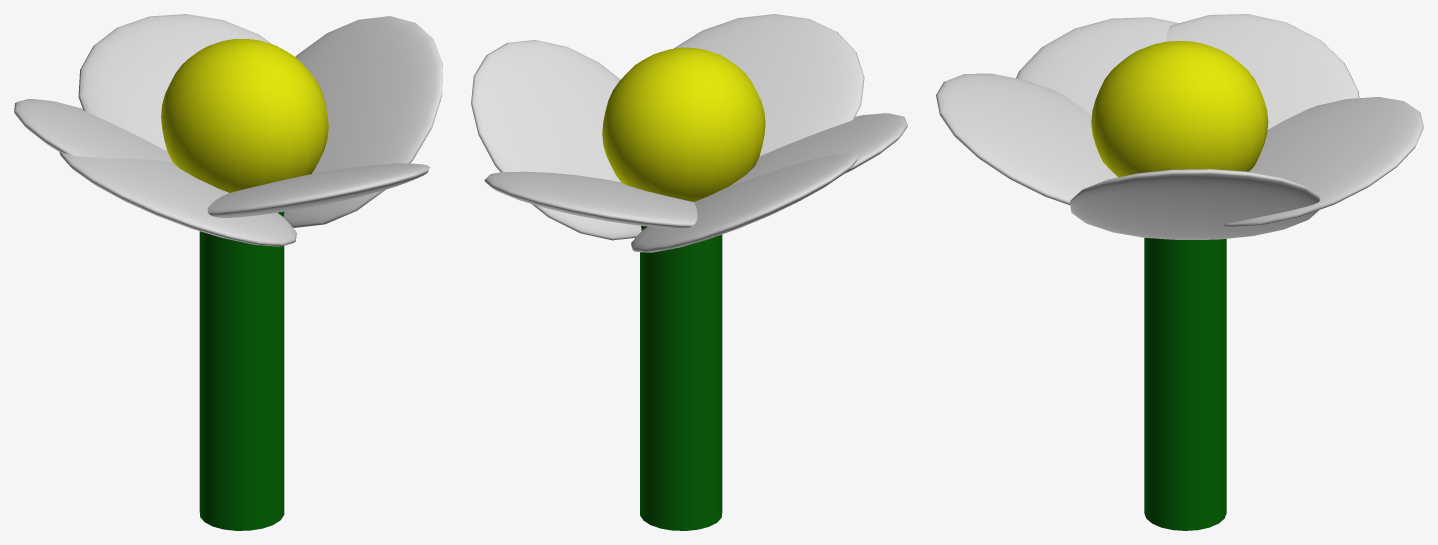
The model's file is Daisy.fbx.
3 renders of one model, left to right at view 1: azimuth 30°, elevation 25°; view 2: azimuth 150°, elevation 25°; view 3: azimuth 270°, elevation 25°, orthographic. The views are drawn at different scales.
Parts seen in each view (by area): view 1: Daisy, Daisy_Center, DPetal5, DPetal4, DPetal_2, DPetal_1, DPetal3; view 2: Daisy, Daisy_Center, DPetal5, DPetal_1, DPetal3, DPetal4, DPetal_2; view 3: Daisy, Daisy_Center, DPetal_1, DPetal5, DPetal4, DPetal3, DPetal_2.
Part boxes in pixels (x1,y1,x2,y2): Daisy: (199,211,284,530); Daisy_Center: (161,39,328,192); DPetal5: (283,16,442,227); DPetal4: (78,14,272,151); DPetal_2: (59,152,296,246); DPetal_1: (207,163,429,217); DPetal3: (14,99,172,162); Daisy: (640,226,722,530); Daisy_Center: (602,47,765,201); DPetal5: (471,40,641,240); DPetal_1: (673,14,864,155); DPetal3: (631,153,858,252); DPetal4: (484,171,697,228); DPetal_2: (729,113,907,186); Daisy: (1144,238,1226,530); Daisy_Center: (1091,41,1268,177); DPetal_1: (936,73,1117,205); DPetal5: (1070,169,1320,239); DPetal4: (1223,97,1423,227); DPetal3: (1166,14,1359,129); DPetal_2: (1016,17,1178,114).
Size of the model in its own units: 0.8231 by 0.9794 by 0.9323.
